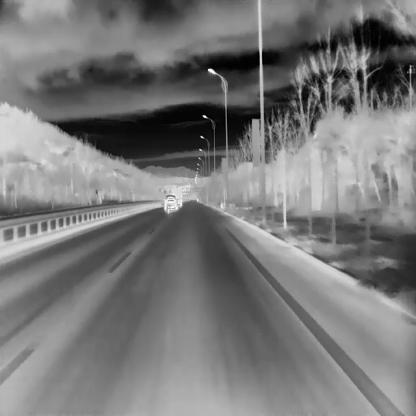car: (163, 194, 178, 210)
truck: (172, 188, 182, 206)
